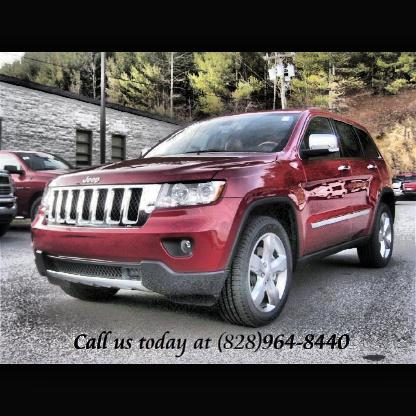Jeep Grand Cherokee SUV 2012: (30, 111, 397, 330)
